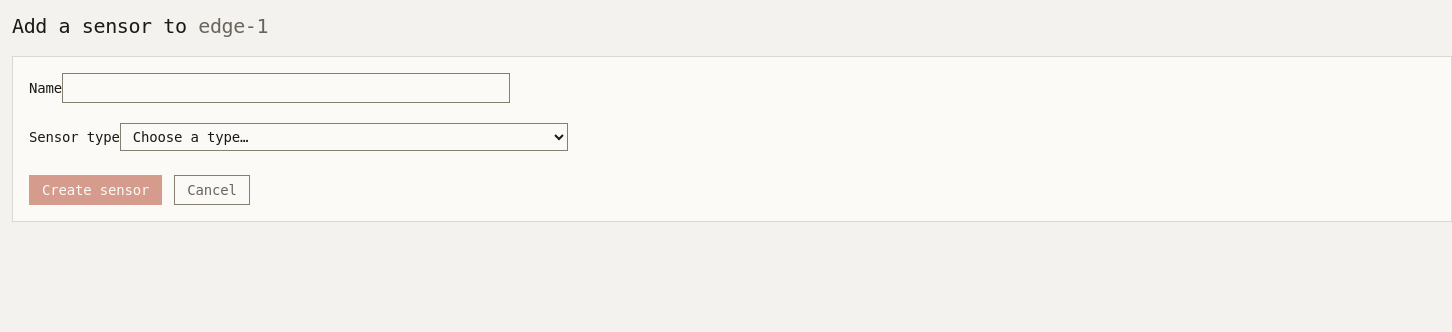
Test: a create the core refused (U-52) › says the message alone when the core gives no correlation id
Type "Ping" into the field labelled "Name" at (286, 88), box [62, 73, 510, 103]
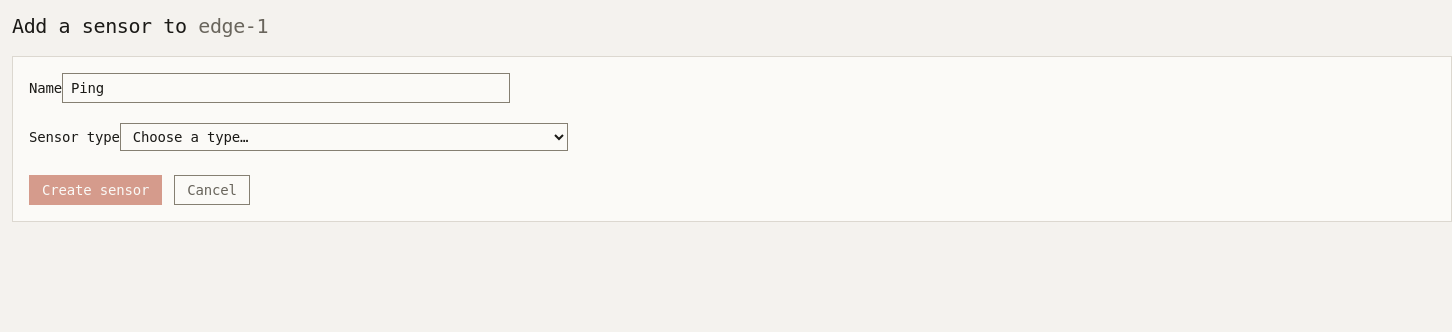
Select "icmp.ping — Availability" in the dropdown labelled "Sensor type" at (344, 137), box [120, 123, 568, 151]
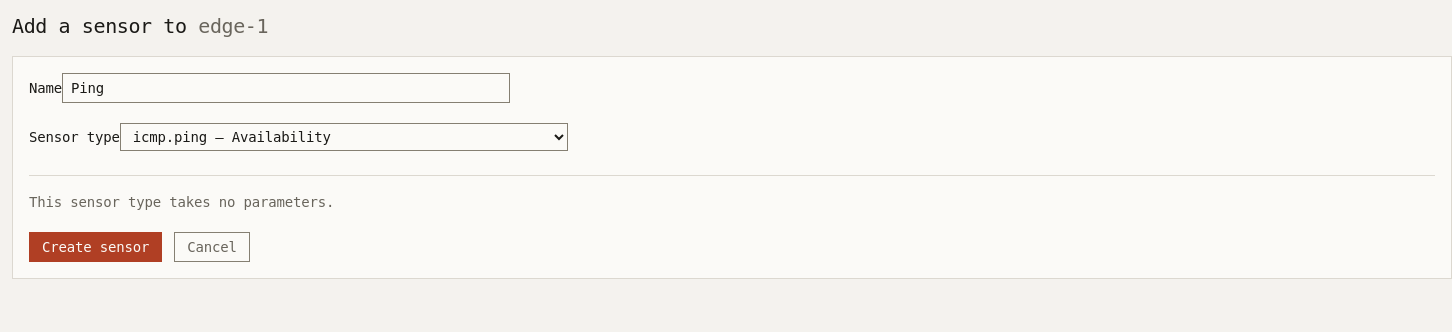
Click the button "Create sensor" at (96, 247), box [29, 232, 162, 262]
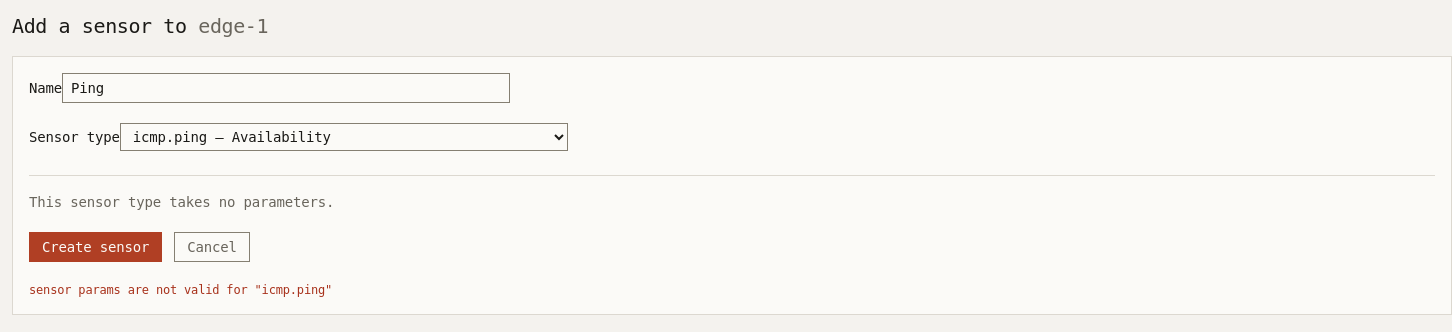
Expected: the message reads "sensor params are not valid for \"icmp.ping\"", [29, 283, 332, 297]
